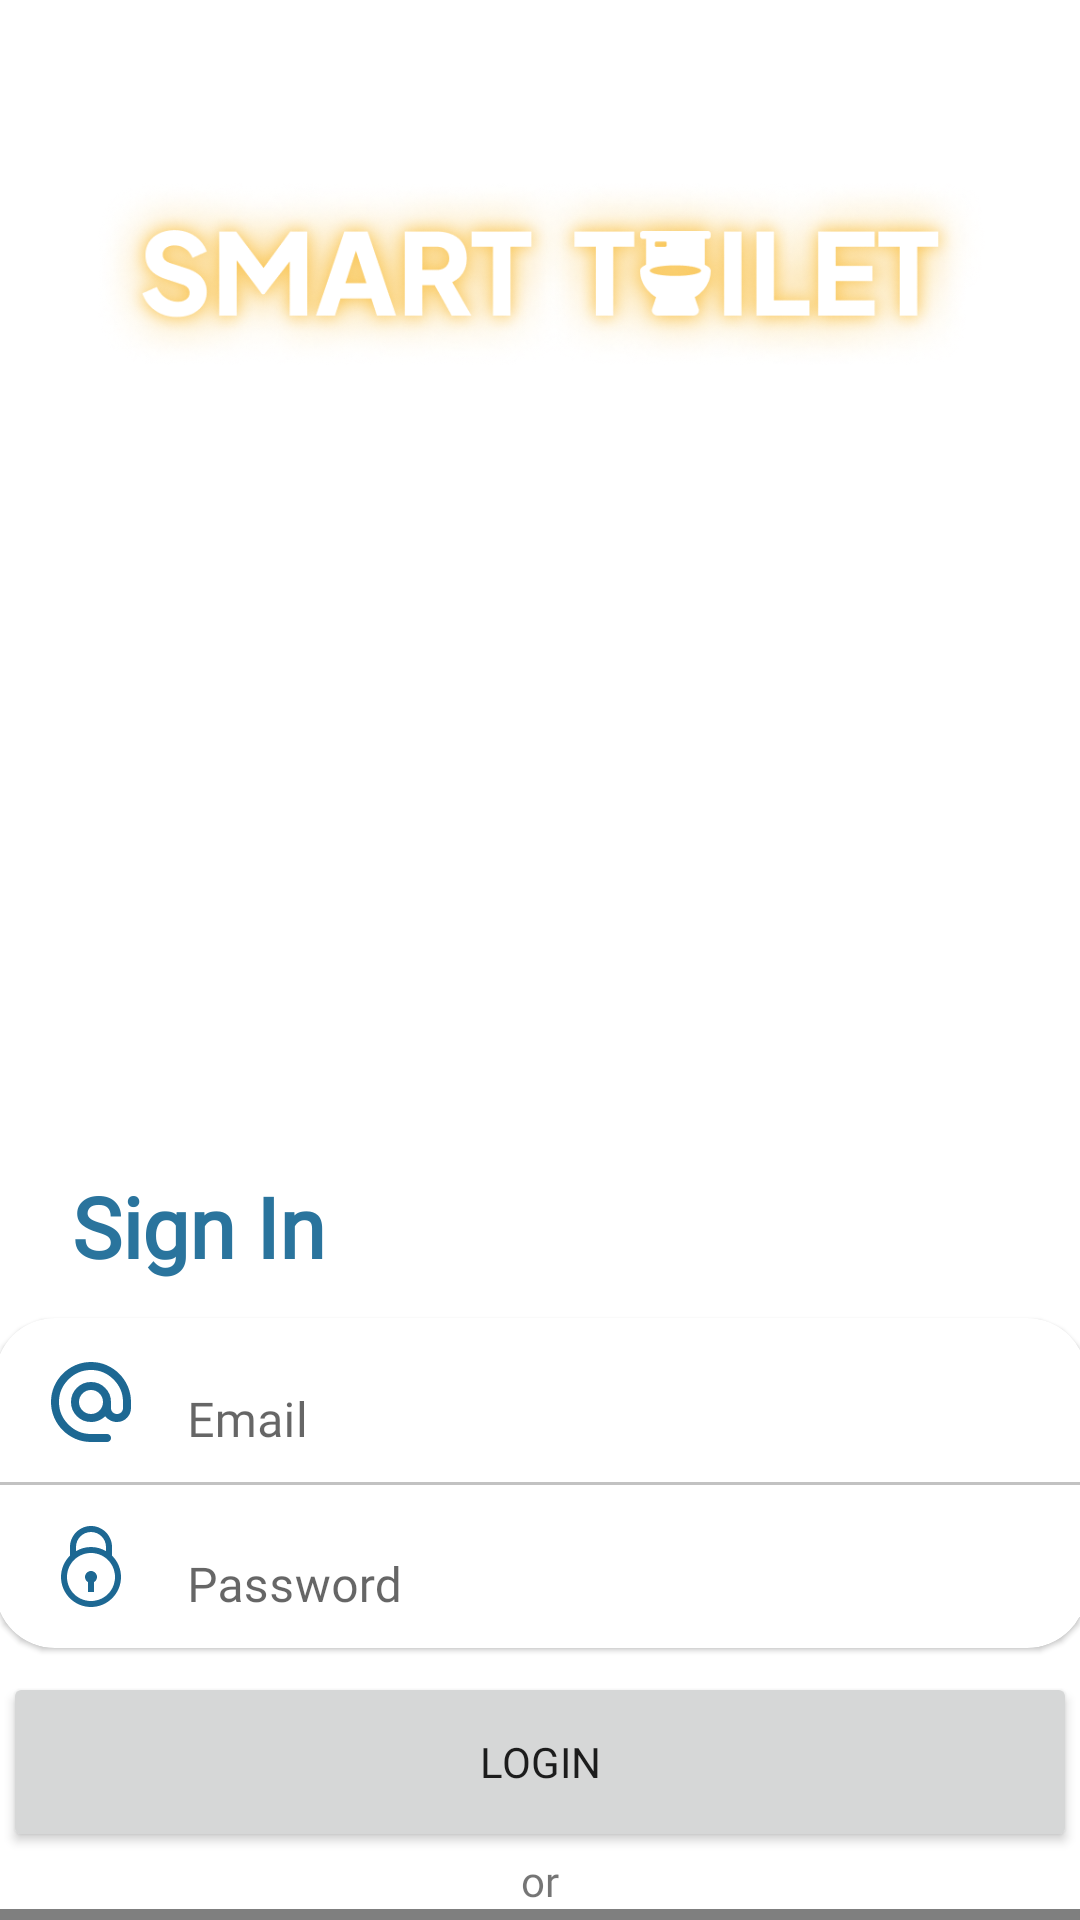

Named icons in this screenshot (1080px×1920px) and their bounding boxes, region(x1, y1, x2, y2):
pass log: region(61, 1526, 121, 1607)
